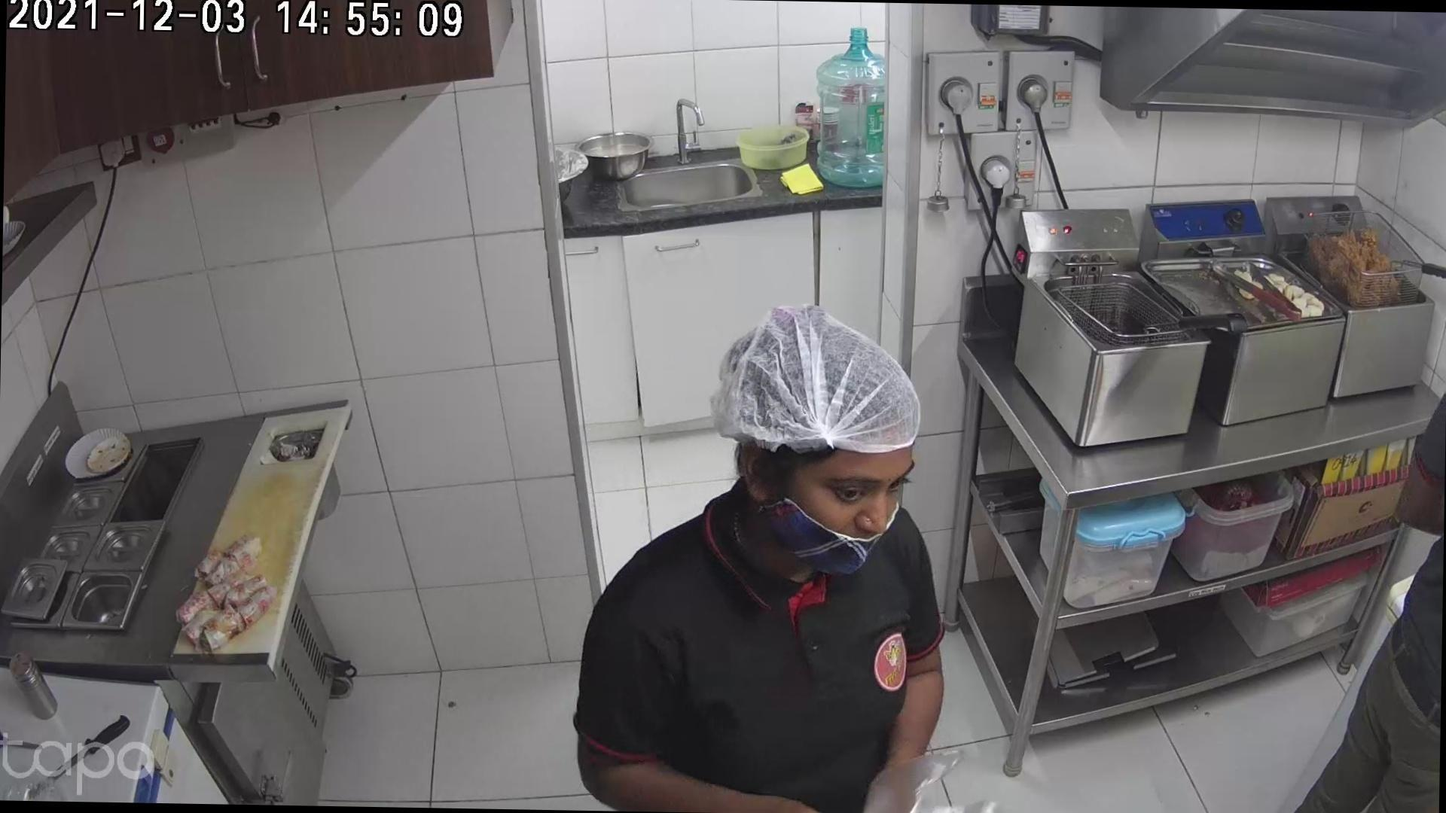gloves: (709, 297, 947, 463)
no_hairnet: (768, 428, 912, 547)
